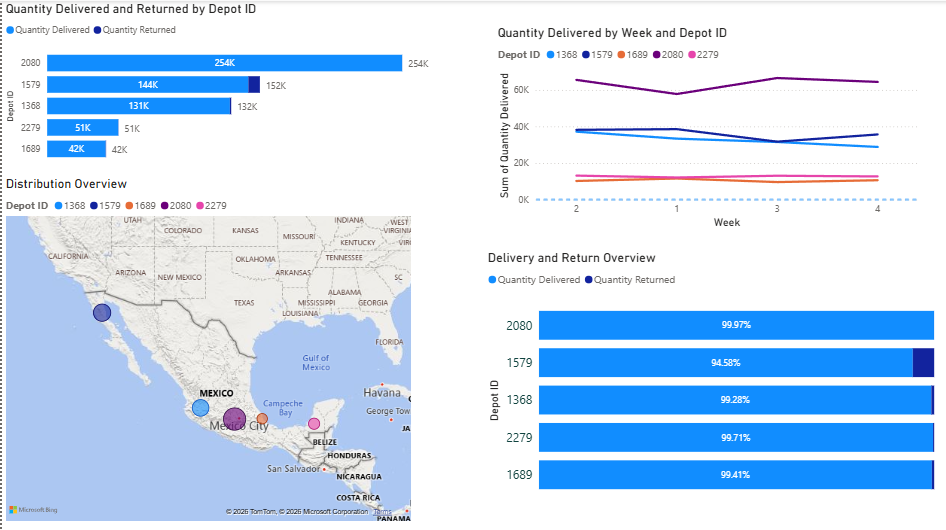

The page's visual inventory and layout, read from the dashboard file:
{"tool":"powerbi","page":{"name":"Distribution Overview","canvas":[1280,720],"ordinal":2},"visuals":[{"type":"barChart","title":"Quantity Delivered and Returned by Depot ID","fields":{"Y":["Sum(Sales and Return.Quantity Delivered)","Sum(Sales and Return.Quantity Returned)"],"Category":["Depot.Depot ID"]},"box":[0,0,621.5,224.7],"z":0},{"type":"map","title":"Distribution Overview","fields":{"Series":["Depot.Depot ID"],"Size":["Sum(Sales and Return.Quantity Delivered)"],"Category":["Depot.State"]},"box":[0,232.5,547.6,463],"z":1000},{"type":"lineChart","title":"Quantity Delivered by Week and Depot ID","fields":{"Category":["Sales and Return.Week"],"Series":["Depot.Depot ID"],"Y":["Sum(Sales and Return.Quantity Delivered)"]},"box":[653.6,32.1,568,275.3],"z":2000},{"type":"hundredPercentStackedBarChart","title":"Delivery and Return Overview","fields":{"Category":["Depot.Depot ID"],"Y":["Sum(Sales and Return.Quantity Delivered)","Sum(Sales and Return.Quantity Returned)"]},"box":[640,330.7,603,344.3],"z":3000}]}

Visuals, with their boxes in screenshot pixels (x1, y1, x2, y2), scaled from the page's 1280x720 canvas onto the 946x530 screenshot:
"Quantity Delivered and Returned by Depot ID" barChart: box=[0, 0, 459, 165]
"Distribution Overview" map: box=[0, 171, 405, 512]
"Quantity Delivered by Week and Depot ID" lineChart: box=[483, 24, 903, 226]
"Delivery and Return Overview" hundredPercentStackedBarChart: box=[473, 243, 919, 497]
